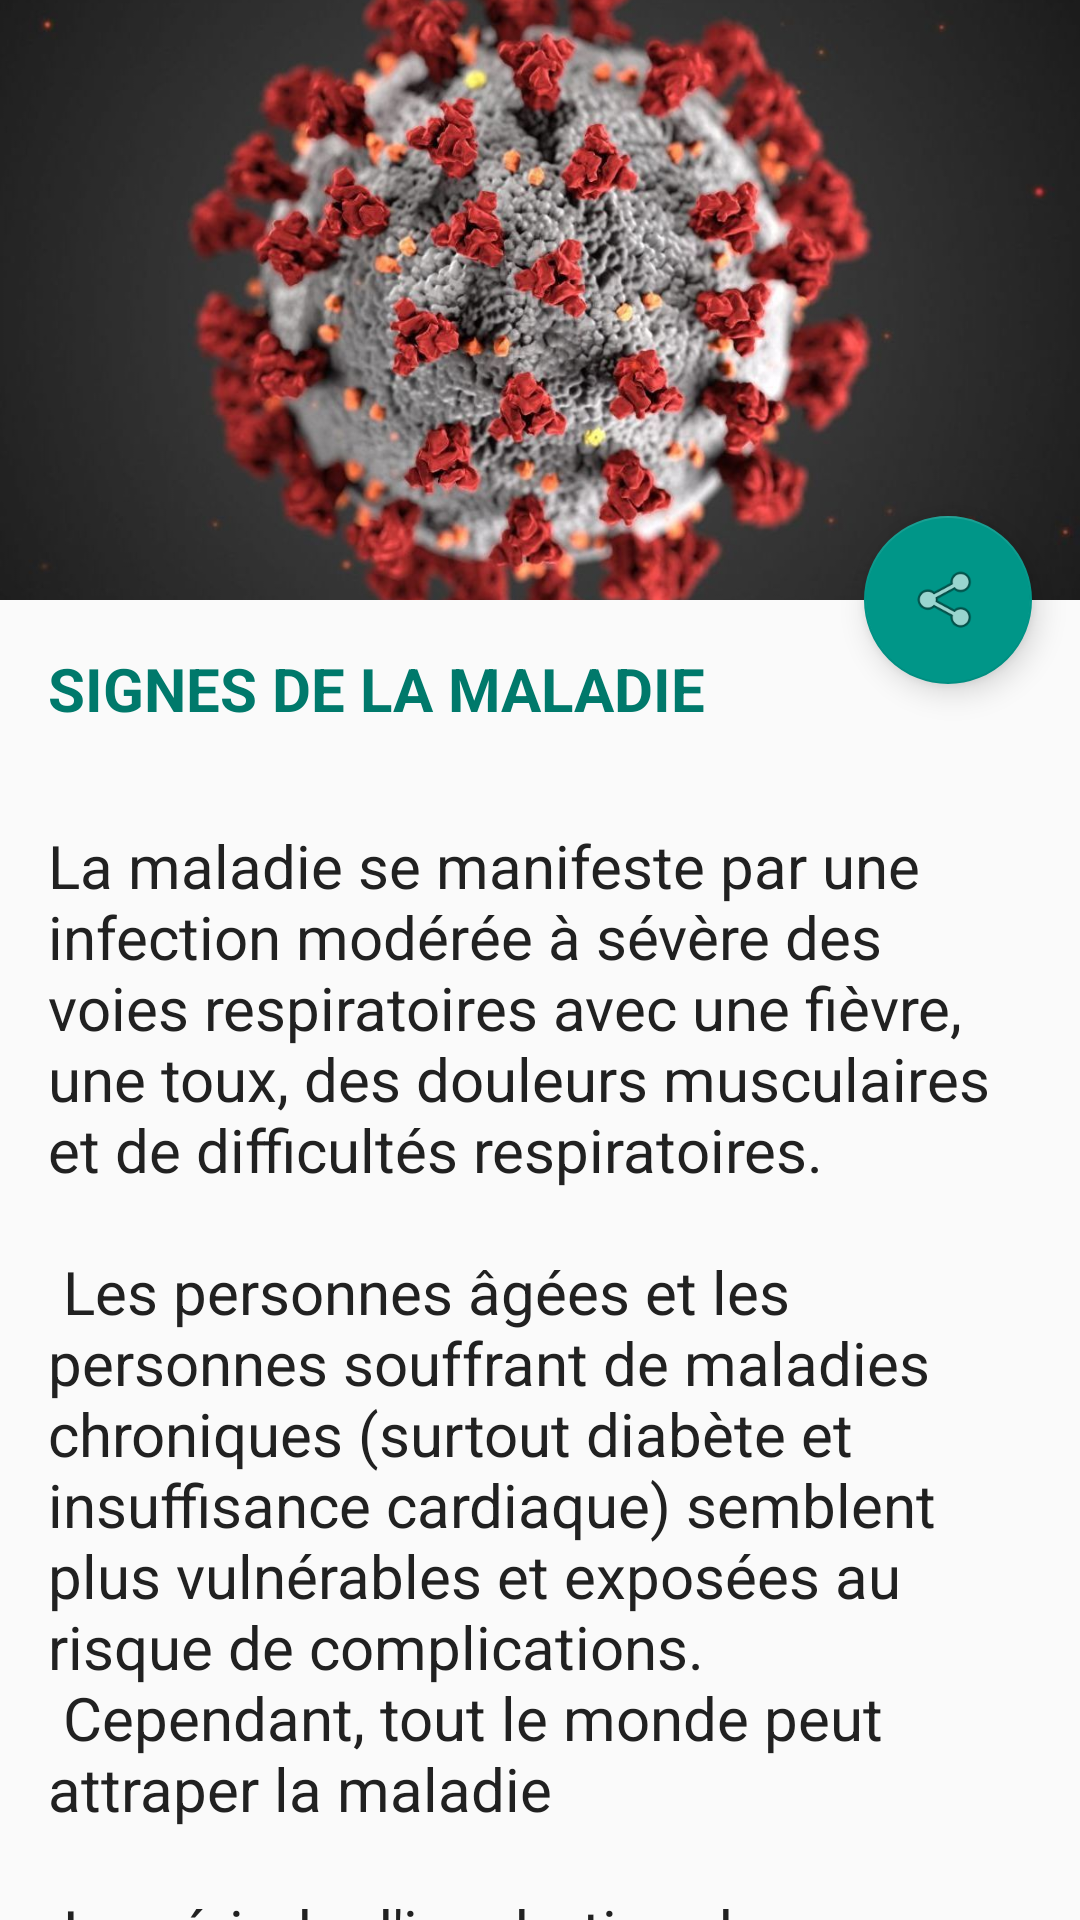

Where to tap for icons on this 1080x1920 app screen, as (x=x, y=y):
share: (x=948, y=600)
